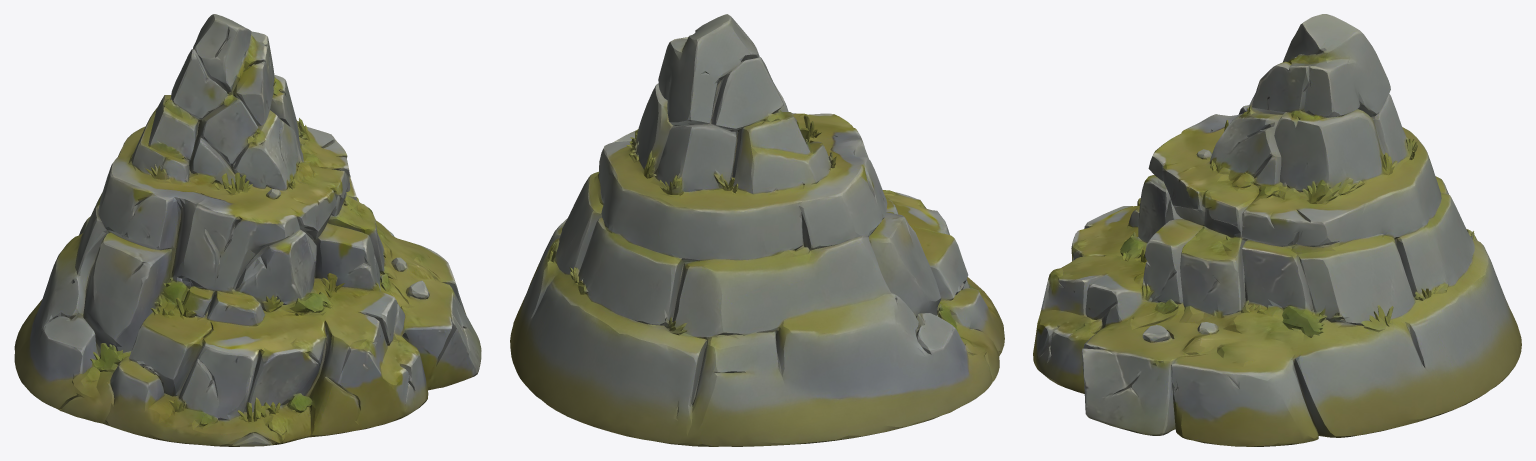
3 views of the same model, side by side, from view 1: azimuth 30°, elevation 25°; view 2: azimuth 150°, elevation 25°; view 3: azimuth 270°, elevation 25° (orthographic). The views are drawn at different scales.
Visible parts, largest first — view 1: Mesh; view 2: Mesh; view 3: Mesh.
Part boxes in pixels (<box>): Mesh: <box>14,14,481,446</box>; Mesh: <box>510,14,1004,446</box>; Mesh: <box>1033,14,1521,446</box>.
Size of the model in its own units: 1.9 by 1.4 by 1.87.
Materials: 1 (1 with a texture image).
